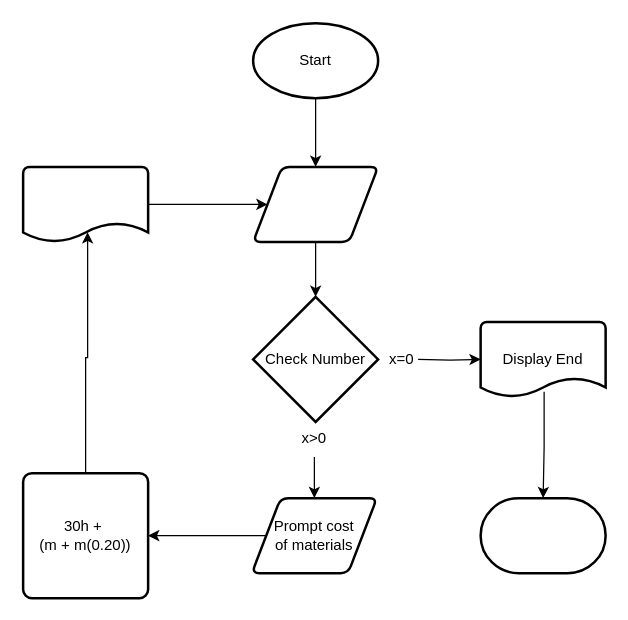
This 628x620 diagram has some shape labels left out. The shapes that lost their labels are listed below. From the top down, each one's centre as x and y in pixels, then its label:
At pixel 85 203: "Display Cost".
At pixel 315 203: "Prompt number of hours worked".
At pixel 542 535: "End Program".
